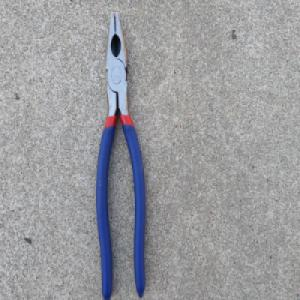Pliers: (95, 9, 148, 300)
